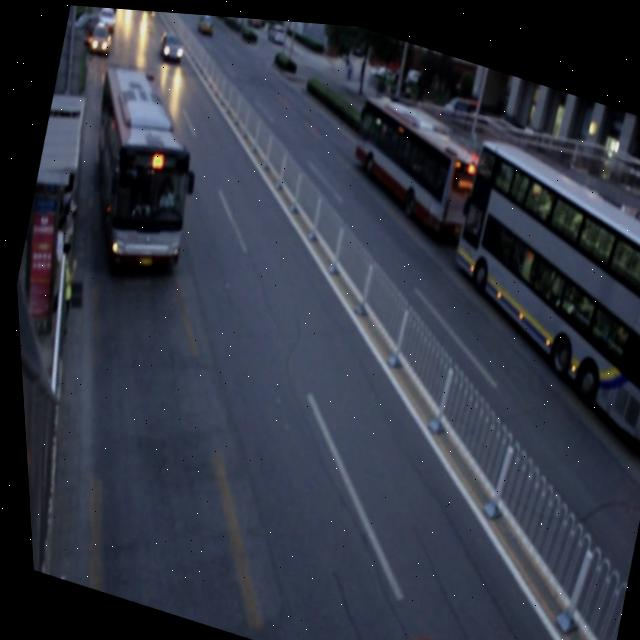car: (86, 19, 115, 55)
van: (418, 120, 640, 435), (58, 57, 217, 275), (338, 85, 494, 238), (329, 602, 489, 640)
